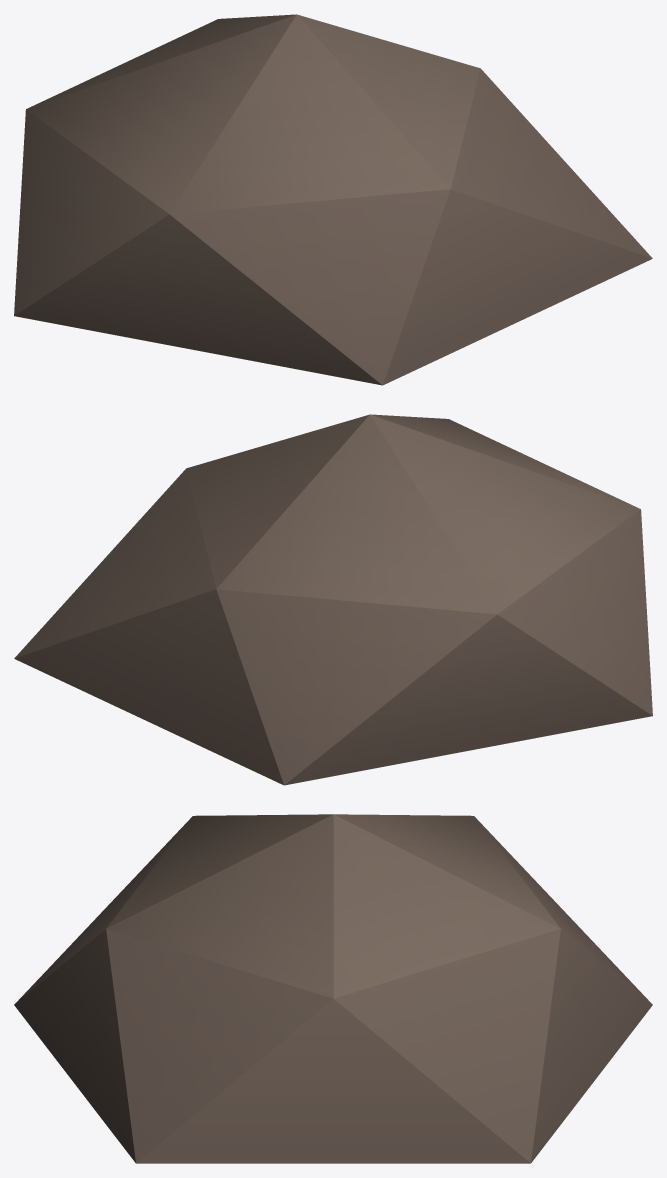
The model's file is kyc_trash_a.fbx.
3 views of the same model, one above another, from view 1: azimuth 30°, elevation 25°; view 2: azimuth 150°, elevation 25°; view 3: azimuth 270°, elevation 25° (orthographic). The views are drawn at different scales.
Parts seen in each view (by area): view 1: kyc_trash_a; view 2: kyc_trash_a; view 3: kyc_trash_a.
Part boxes in pixels (x1,y1,x2,y2): kyc_trash_a: (14,14,652,385); kyc_trash_a: (14,414,652,785); kyc_trash_a: (14,814,652,1163).
Bounding box in the file's own units: 2.42 × 1 × 2.54.
